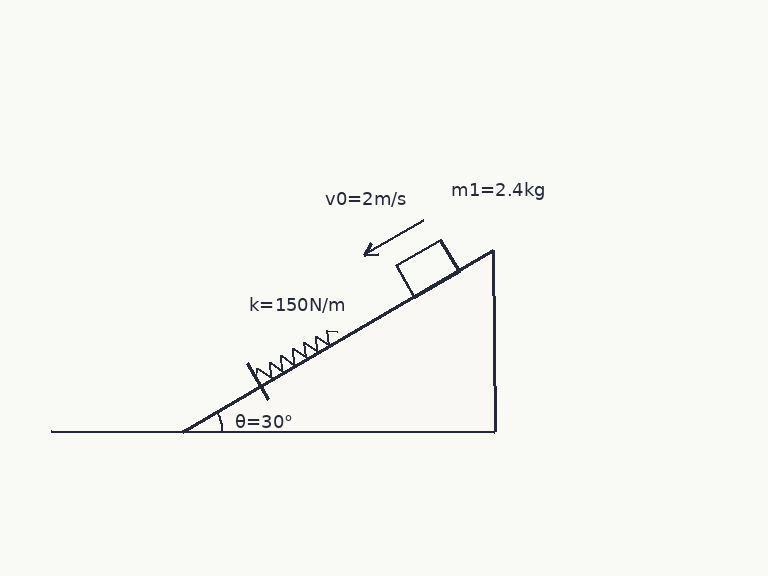block: (393, 237, 460, 299)
ramp: (180, 249, 496, 433)
spring: (253, 327, 339, 380)
